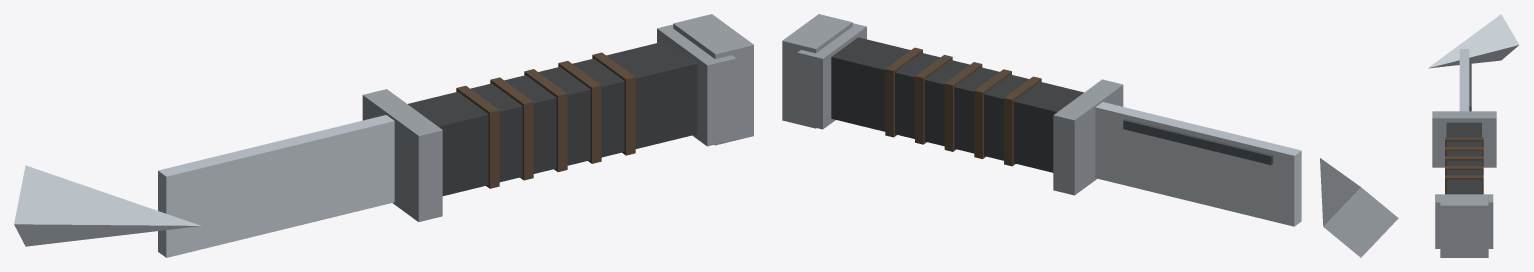
The model's file is knife_klin.glb.
The picture shows the model from 3 angles, left to right: view 1: azimuth 30°, elevation 25°; view 2: azimuth 150°, elevation 25°; view 3: azimuth 270°, elevation 25°; orthographic projection. The views are drawn at different scales.
Visible parts, largest first — view 1: BladeRoot, Handle, BladeTip, GuardFront.002, GuardBack.002, Pommel, GripGroove.004, GripGroove, GripGroove.001, GripGroove.002, GripGroove.003; view 2: Handle, BladeRoot, GuardFront.002, BladeTip, GuardBack.002, Pommel, Fuller, GripGroove.002, GripGroove, GripGroove.004, GripGroove.001, GripGroove.003; view 3: Pommel, BladeTip, GuardFront.002, Handle, GuardBack.002, BladeRoot, GripGroove.004, GripGroove, GripGroove.002, GripGroove.001, GripGroove.003, Fuller.
Part boxes in pixels (x1=…): BladeRoot: x1=158, y1=115, x2=394, y2=257; Handle: x1=408, y1=40, x2=697, y2=195; BladeTip: x1=14, y1=165, x2=200, y2=246; GuardFront.002: x1=362, y1=89, x2=442, y2=221; GuardBack.002: x1=657, y1=24, x2=736, y2=146; Pommel: x1=673, y1=14, x2=753, y2=145; GripGroove.004: x1=592, y1=52, x2=635, y2=155; GripGroove: x1=456, y1=85, x2=499, y2=188; GripGroove.001: x1=490, y1=77, x2=533, y2=180; GripGroove.002: x1=524, y1=69, x2=567, y2=171; GripGroove.003: x1=558, y1=61, x2=601, y2=163; Handle: x1=831, y1=37, x2=1083, y2=172; BladeRoot: x1=1095, y1=102, x2=1301, y2=226; GuardFront.002: x1=1053, y1=79, x2=1123, y2=195; BladeTip: x1=1320, y1=158, x2=1398, y2=257; GuardBack.002: x1=797, y1=23, x2=866, y2=129; Pommel: x1=782, y1=14, x2=852, y2=128; Fuller: x1=1123, y1=119, x2=1273, y2=165; GripGroove.002: x1=944, y1=62, x2=982, y2=151; GripGroove: x1=1004, y1=76, x2=1041, y2=166; GripGroove.004: x1=885, y1=47, x2=922, y2=137; GripGroove.001: x1=974, y1=69, x2=1011, y2=159; GripGroove.003: x1=915, y1=55, x2=952, y2=144; Pommel: x1=1440, y1=194, x2=1488, y2=257; BladeTip: x1=1428, y1=14, x2=1519, y2=68; GuardFront.002: x1=1432, y1=111, x2=1496, y2=167; Handle: x1=1446, y1=122, x2=1481, y2=194; GuardBack.002: x1=1435, y1=194, x2=1493, y2=248; BladeRoot: x1=1459, y1=49, x2=1469, y2=111; GripGroove.004: x1=1445, y1=175, x2=1483, y2=194; GripGroove: x1=1445, y1=137, x2=1483, y2=146; GripGroove.002: x1=1445, y1=156, x2=1483, y2=165; GripGroove.001: x1=1445, y1=147, x2=1483, y2=156; GripGroove.003: x1=1445, y1=166, x2=1483, y2=175; Fuller: x1=1469, y1=58, x2=1471, y2=111.
Bounding box in the file's own units: 0.2893 × 0.038 × 0.0573.
